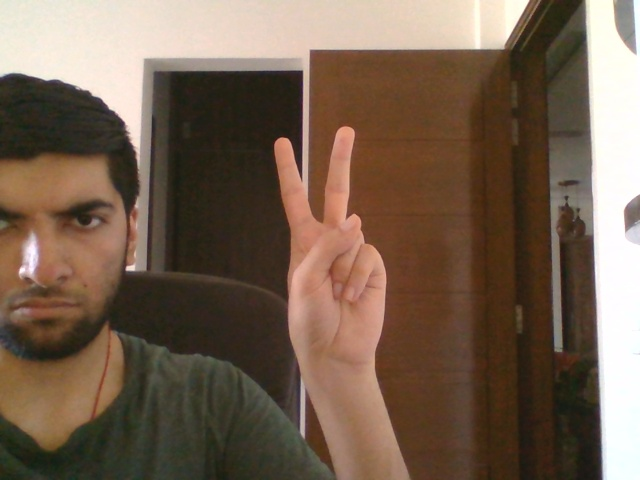LetterK: (273, 125, 386, 369)
